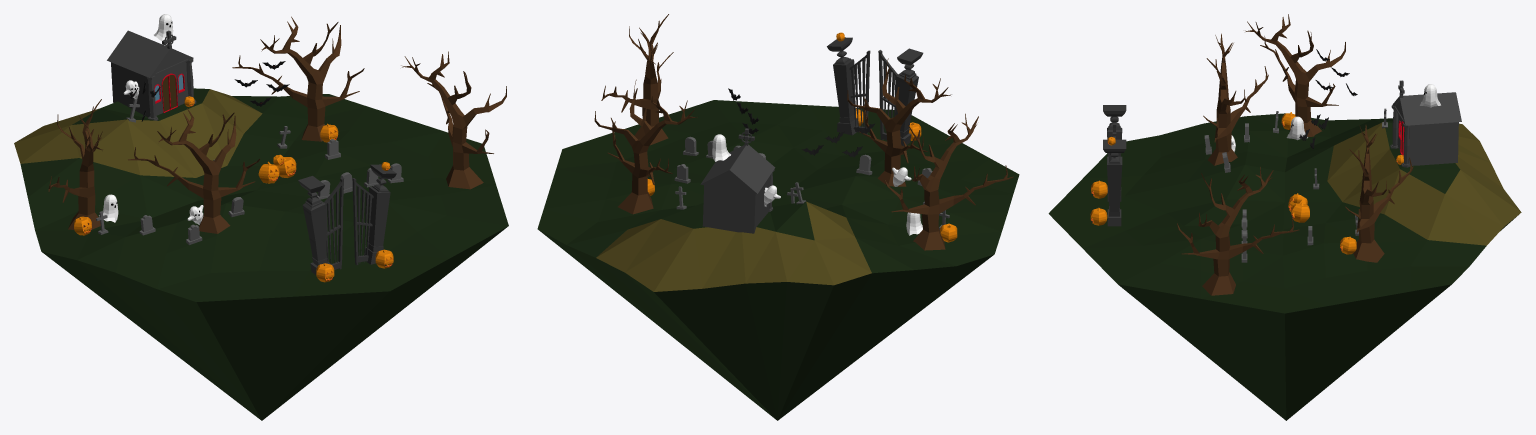
The model's file is lowpoly-graveyard.fbx.
3 views of the same model, side by side, from view 1: azimuth 30°, elevation 25°; view 2: azimuth 150°, elevation 25°; view 3: azimuth 270°, elevation 25° (orthographic). The views are drawn at different scales.
Visible parts, largest first — view 1: Cylinder, Cube.006, Cube.012, Cylinder.001, Cylinder.003, Cylinder.002, Cylinder.004; view 2: Cylinder, Cube.012, Cube.006, Cylinder.004, Cylinder.003, Cylinder.001, Cylinder.002; view 3: Cylinder, Cube.012, Cylinder.002, Cylinder.004, Cylinder.003, Cylinder.001, Cube.006.
Part boxes in pixels (bbox=[...]): Cylinder: bbox=[14, 88, 508, 420]; Cube.006: bbox=[298, 164, 396, 274]; Cube.012: bbox=[107, 30, 196, 120]; Cylinder.001: bbox=[128, 108, 260, 233]; Cylinder.003: bbox=[232, 16, 364, 141]; Cylinder.002: bbox=[401, 51, 506, 189]; Cylinder.004: bbox=[48, 99, 102, 229]; Cylinder: bbox=[537, 100, 1019, 420]; Cube.012: bbox=[700, 128, 775, 233]; Cube.006: bbox=[827, 37, 923, 146]; Cylinder.004: bbox=[884, 113, 1013, 250]; Cylinder.003: bbox=[594, 79, 697, 214]; Cylinder.001: bbox=[847, 58, 951, 186]; Cylinder.002: bbox=[601, 14, 673, 145]; Cylinder: bbox=[1048, 113, 1521, 420]; Cube.012: bbox=[1390, 80, 1461, 167]; Cylinder.002: bbox=[1177, 167, 1299, 295]; Cylinder.004: bbox=[1245, 14, 1345, 136]; Cylinder.003: bbox=[1345, 125, 1413, 262]; Cylinder.001: bbox=[1203, 33, 1268, 165]; Cube.006: bbox=[1103, 105, 1126, 226].
Bounding box in the file's own units: 3765 × 2879 × 3715.
